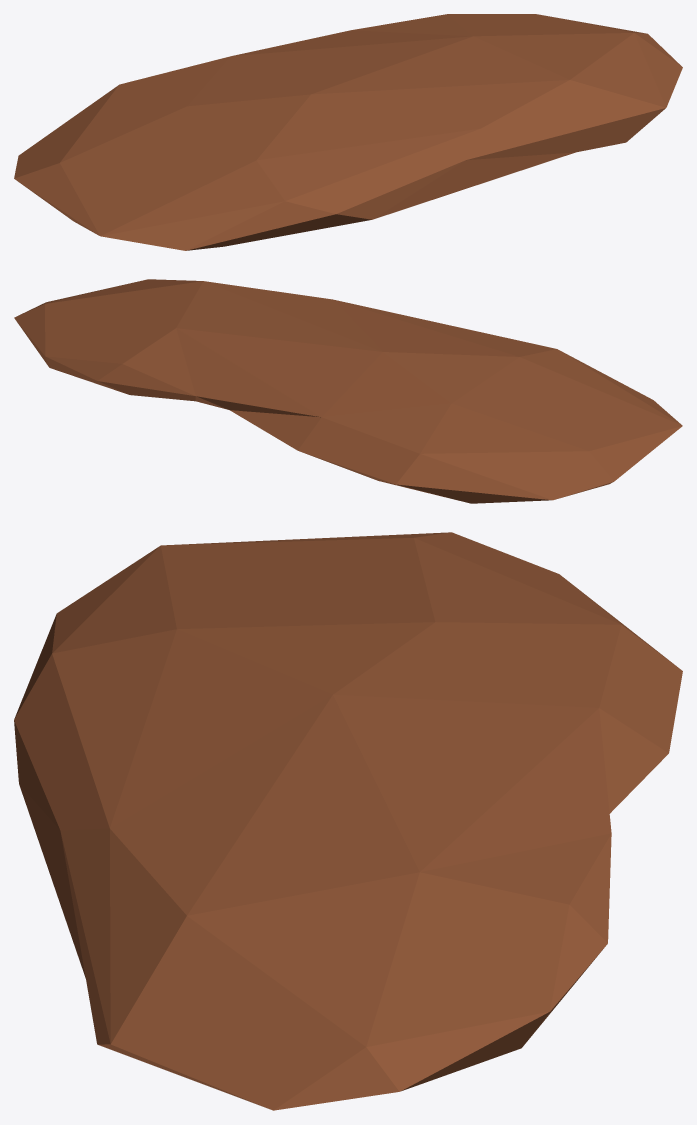
Rendered from Large_VeryFlatRock2.fbx.
3 views of the same model, one above another, from view 1: azimuth 30°, elevation 25°; view 2: azimuth 150°, elevation 25°; view 3: azimuth 270°, elevation 25° (orthographic). The views are drawn at different scales.
Parts seen in each view (by area): view 1: Large_VeryFlatRock2; view 2: Large_VeryFlatRock2; view 3: Large_VeryFlatRock2.
Part boxes in pixels (bbox=[...]): Large_VeryFlatRock2: bbox=[14, 14, 682, 250]; Large_VeryFlatRock2: bbox=[14, 279, 682, 503]; Large_VeryFlatRock2: bbox=[14, 532, 682, 1110].
Size of the model in its own units: 9.55 by 1.13 by 4.75.
